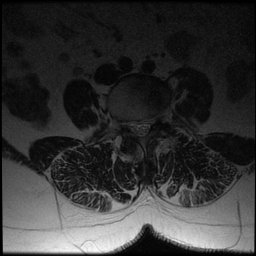CCS_normal: (138, 111, 144, 143)
LFS_stenosis: (151, 108, 158, 130)
LLS_normal: (144, 112, 151, 137)
RFS_stenosis: (121, 112, 130, 135)
RLS_normal: (130, 113, 138, 140)
